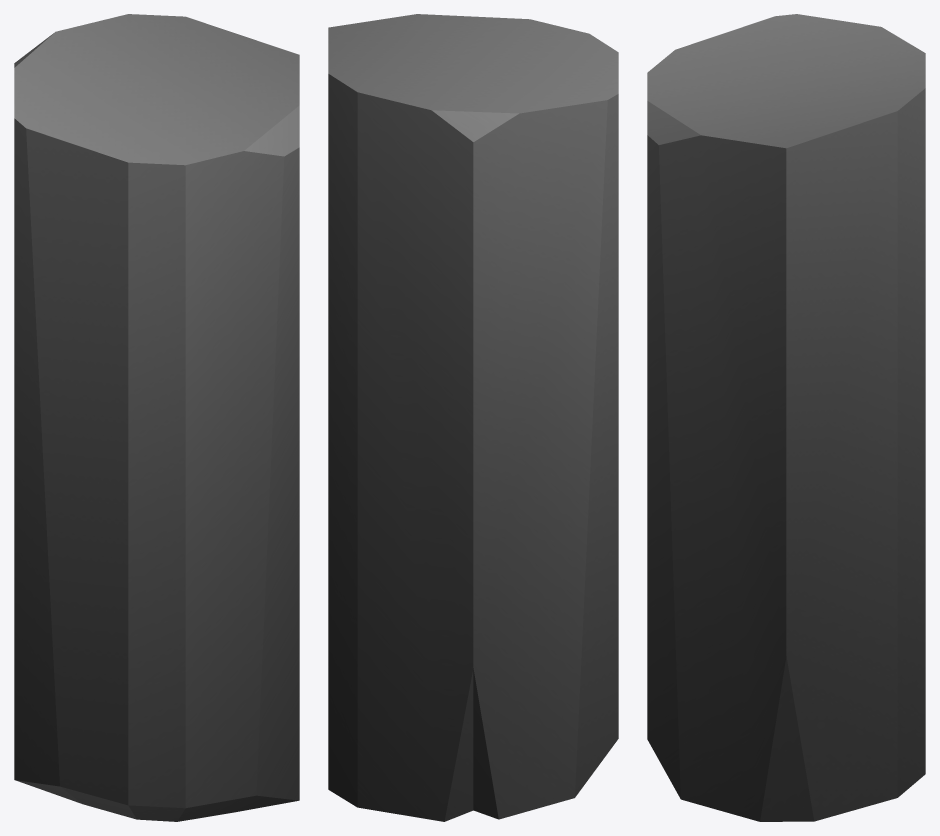
Rendered from SM_rockHex_B.fbx.
The picture shows the model from 3 angles, left to right: view 1: azimuth 30°, elevation 25°; view 2: azimuth 150°, elevation 25°; view 3: azimuth 270°, elevation 25°; orthographic projection. The views are drawn at different scales.
Parts seen in each view (by area): view 1: SM_rockHex_B; view 2: SM_rockHex_B; view 3: SM_rockHex_B.
Boxes of the visible parts, left/top/right/bottom form: SM_rockHex_B: left=14, top=14, right=299, bottom=821; SM_rockHex_B: left=328, top=14, right=618, bottom=821; SM_rockHex_B: left=647, top=14, right=925, bottom=821.
Bounding box in the file's own units: 113 × 274 × 99.81.
1 material, 1 textured.
